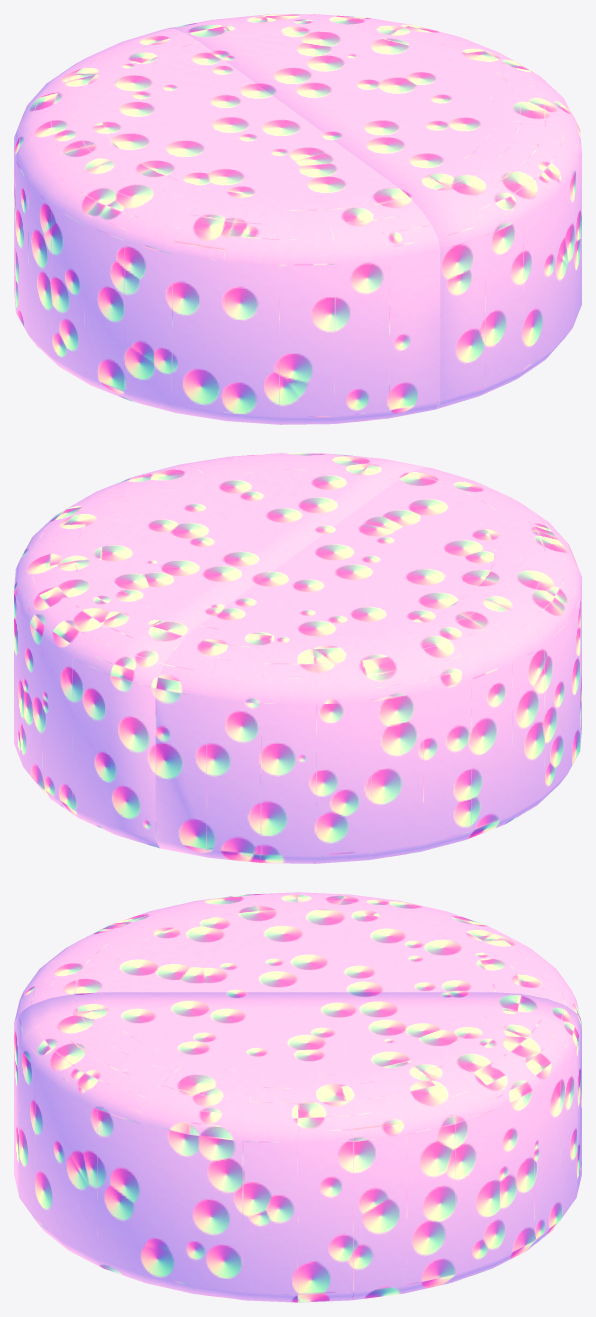
The model's file is SplitCheese.fbx.
3 views of the same model, one above another, from view 1: azimuth 30°, elevation 25°; view 2: azimuth 150°, elevation 25°; view 3: azimuth 270°, elevation 25° (orthographic).
Visible parts, largest first — view 1: Cylinder.001, Cylinder; view 2: Cylinder.001, Cylinder; view 3: Cylinder, Cylinder.001.
Part boxes in pixels (<box>): Cylinder.001: <box>14,29,440,424</box>; Cylinder: <box>165,14,581,409</box>; Cylinder.001: <box>155,468,581,863</box>; Cylinder: <box>14,453,430,848</box>; Cylinder: <box>14,992,581,1302</box>; Cylinder.001: <box>14,892,581,1022</box>.
Bounding box in the file's own units: 741 × 297 × 741.
